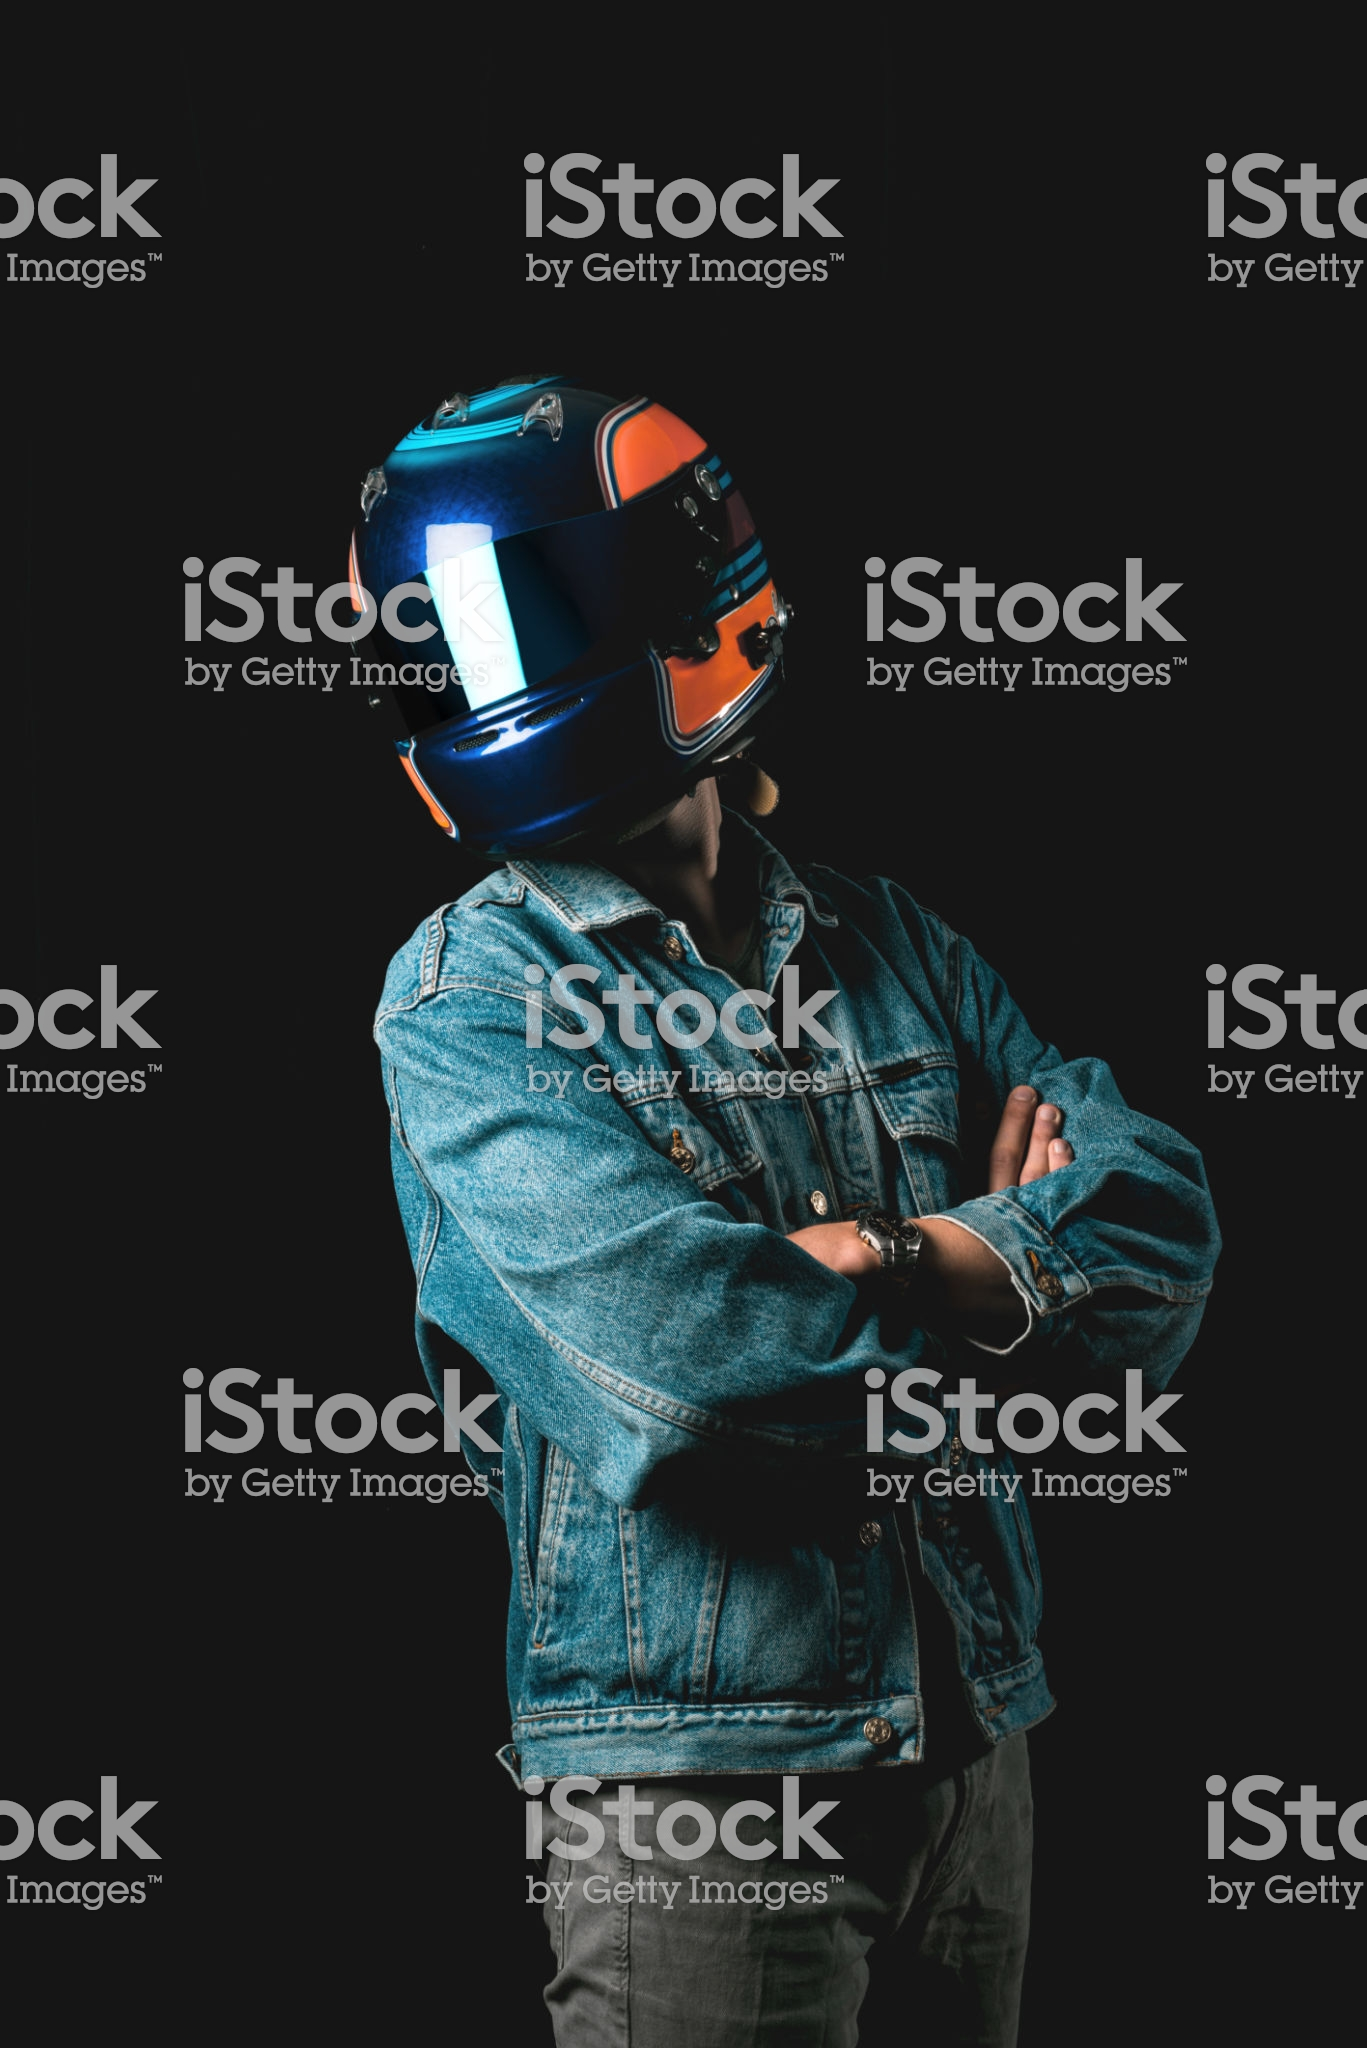helmet: (320, 375, 809, 866)
